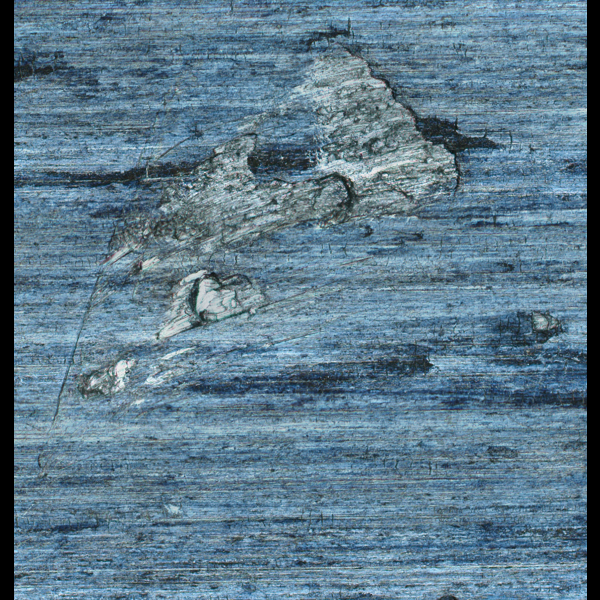d: (74, 22, 500, 414), (502, 307, 566, 350)
